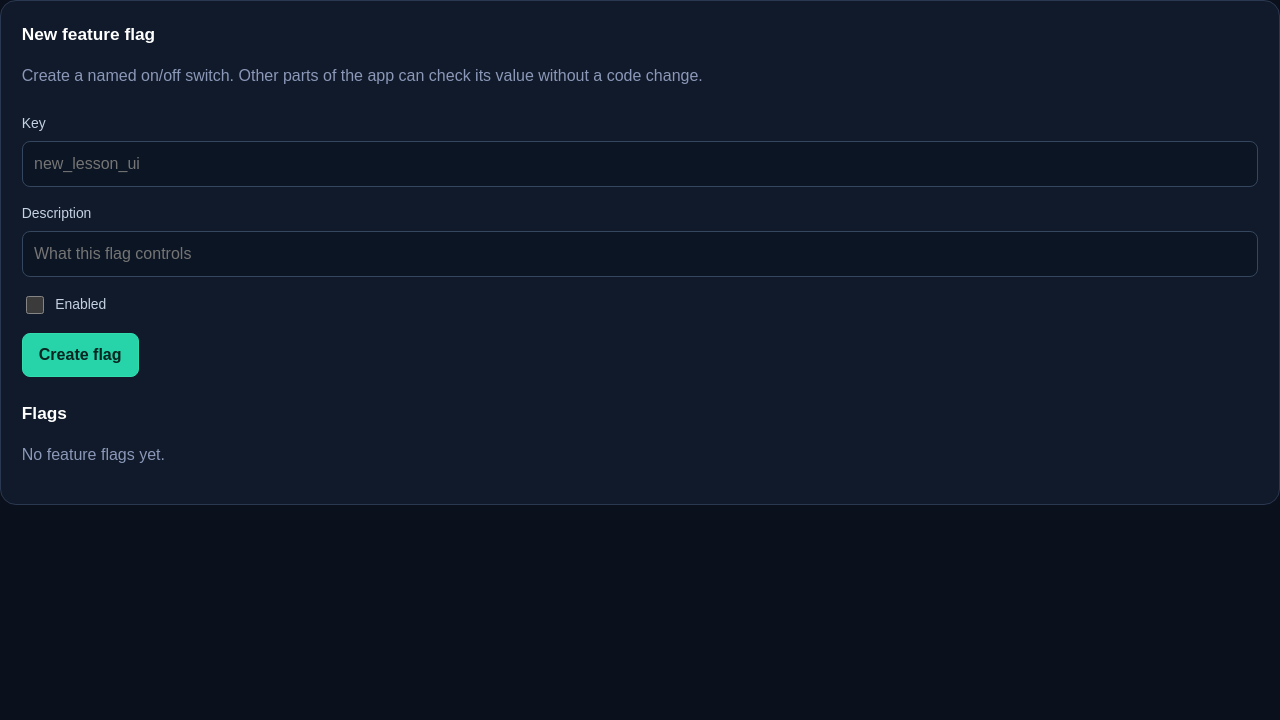
FeatureFlagsManager › creates a flag as enabled when the checkbox is checked
The image size is (1280, 720).
Type "new_flag" into the field labelled "Key".
click(640, 164); type("new_flag")  # box [22,141,1258,187]
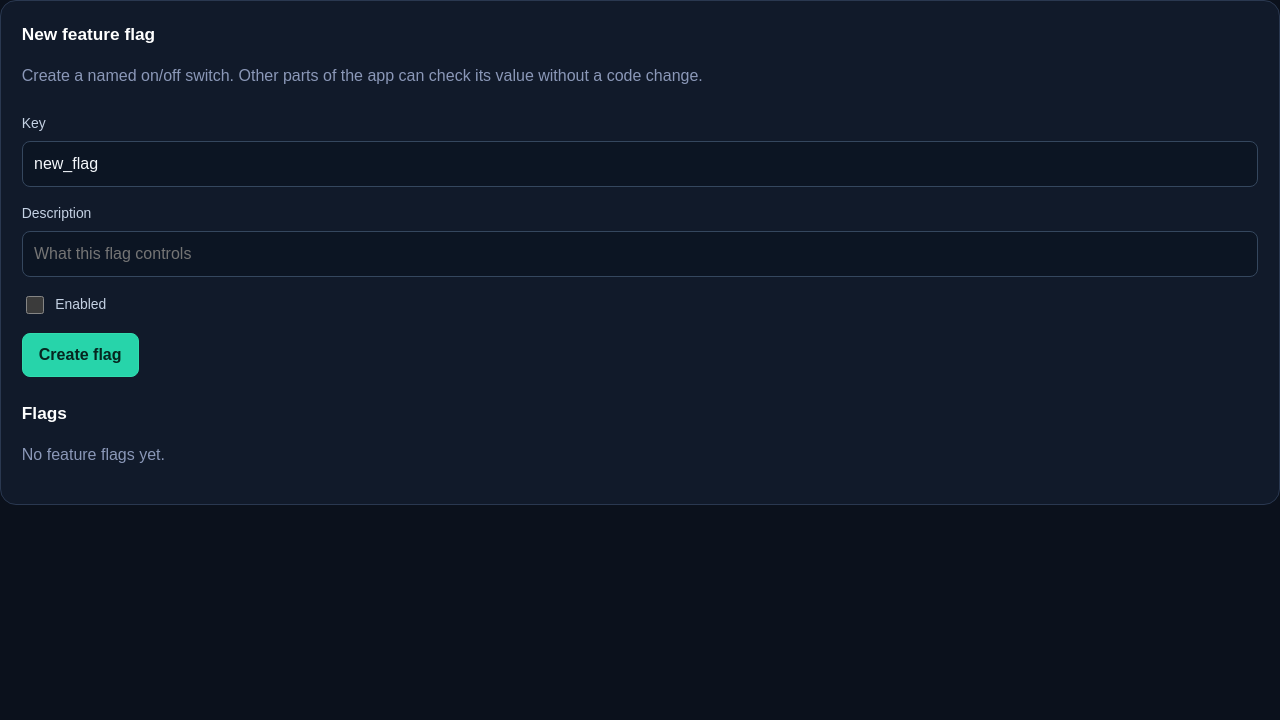
Click the checkbox labelled "Enabled".
click(35, 305)  # box [26,296,44,314]
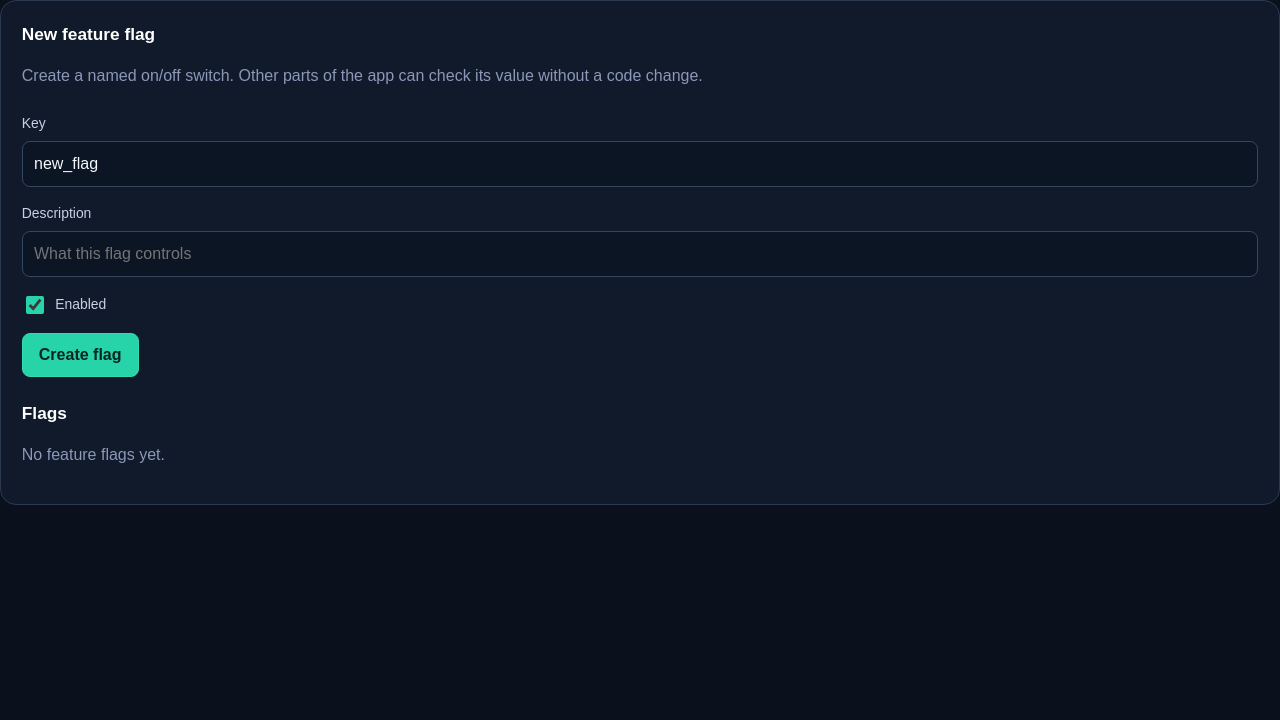
Click the button "Create flag".
click(80, 355)  # box [22,333,138,377]
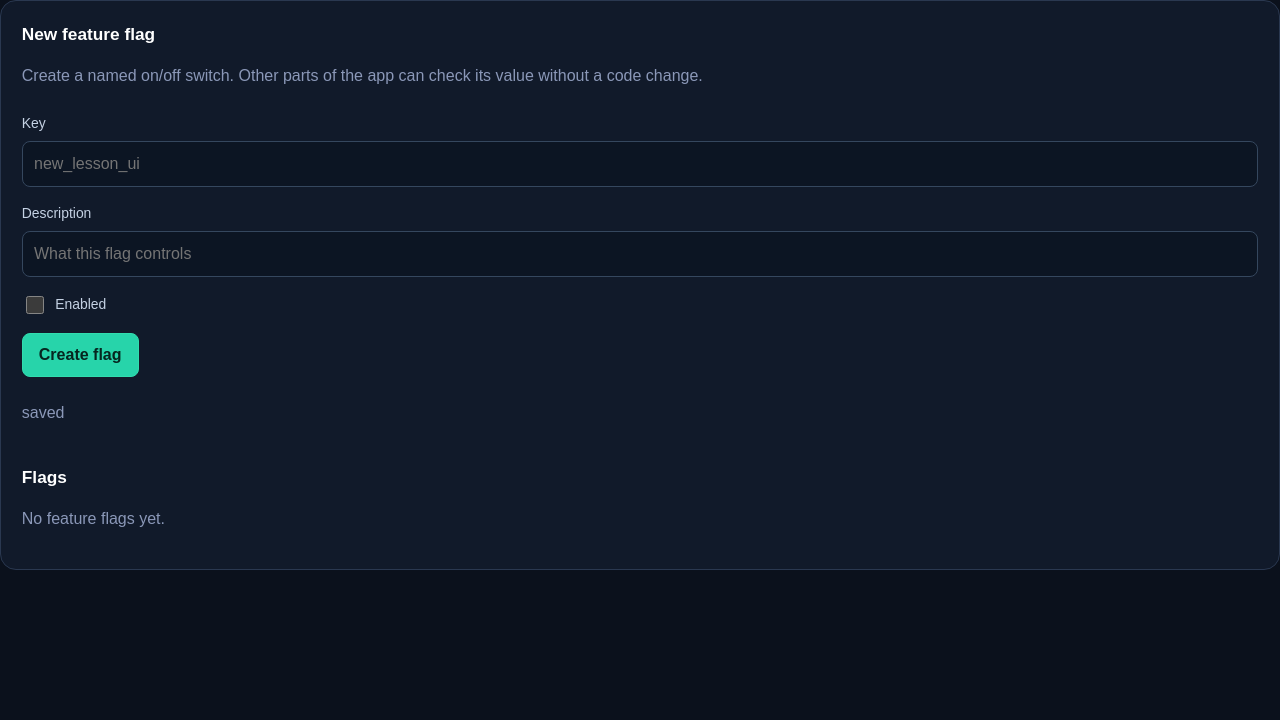
Check: the message "saved" is shown, box [22,404,64,421]
